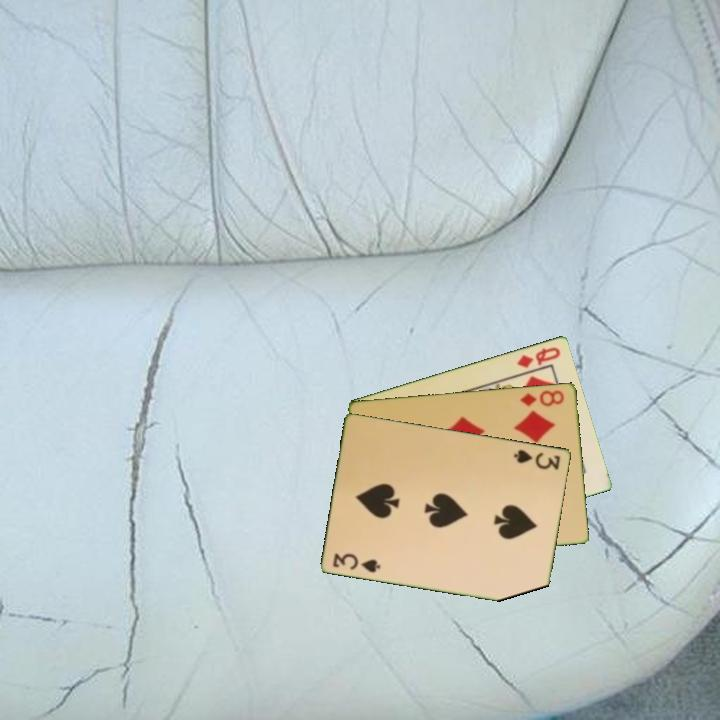3s: (510, 446, 563, 472), (330, 549, 383, 575)
8d: (517, 386, 567, 409)
Qd: (513, 343, 563, 370)
